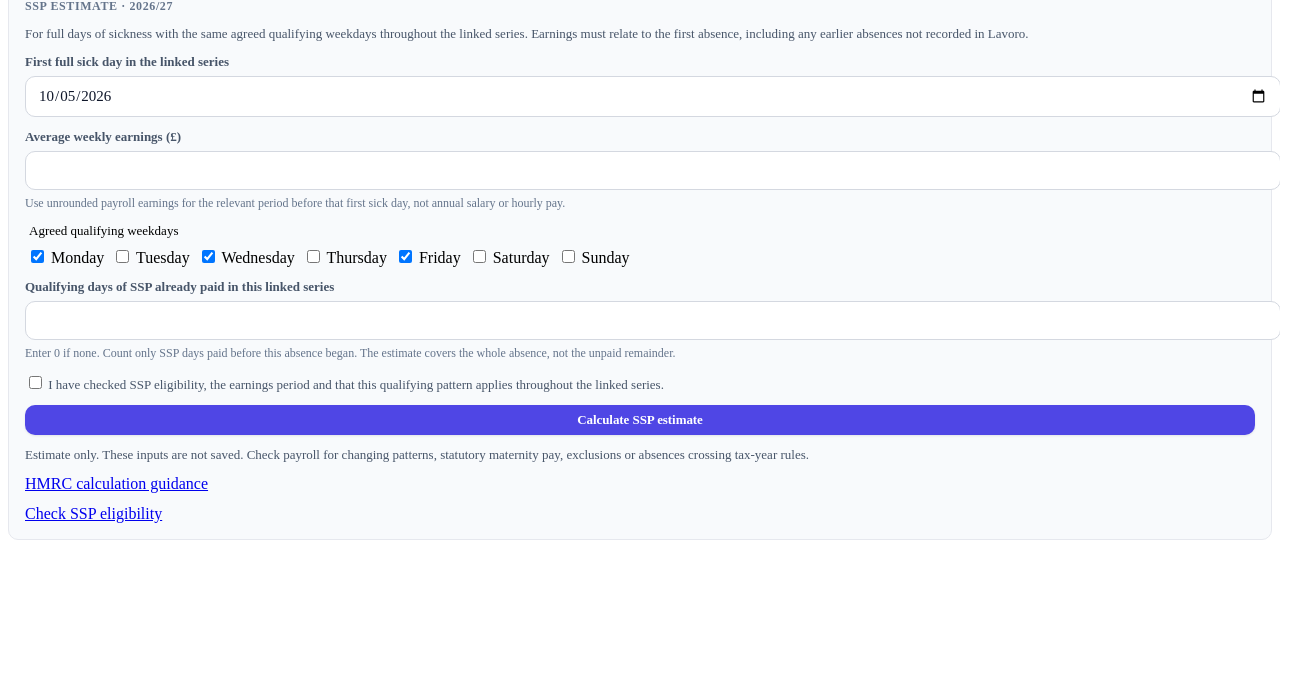
Test: calculates using employee weekdays and entered earnings
In the number field labelled "Average weekly earnings (£)": (652,170) [25,151,1280,190], type "100"
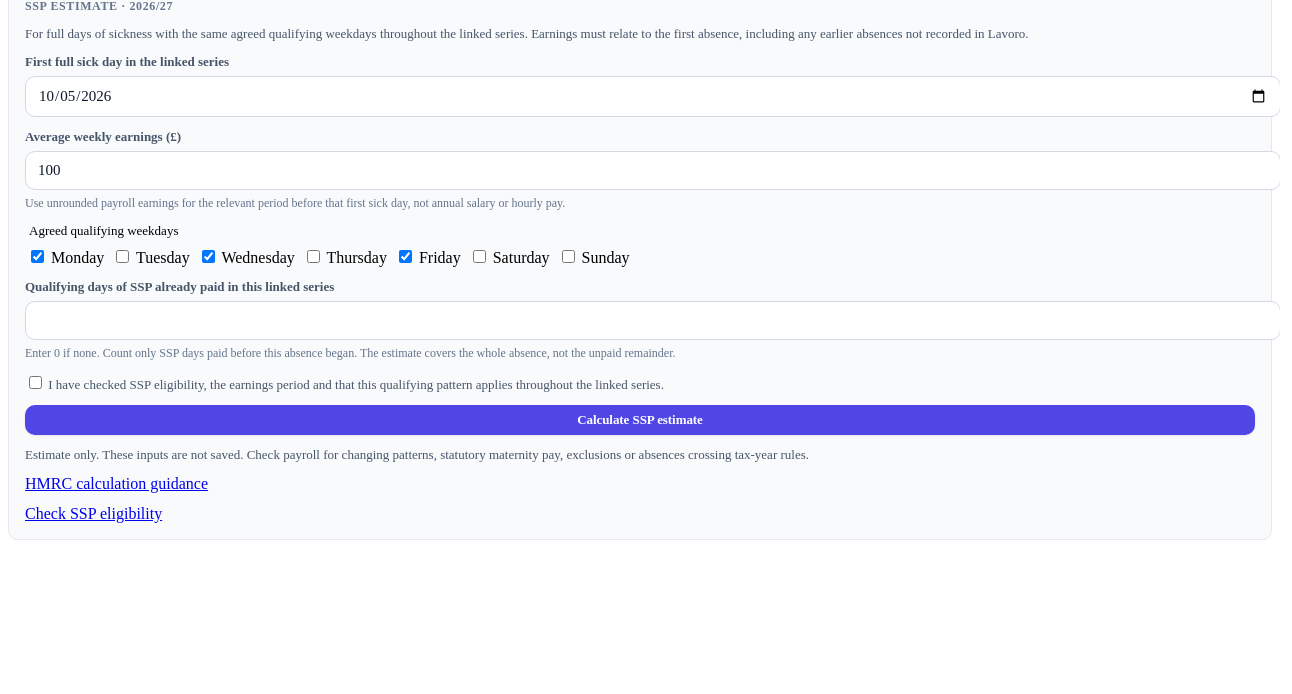
In the number field labelled "Qualifying days of SSP already paid in this linked series": (652,320) [25,301,1280,340], type "0"
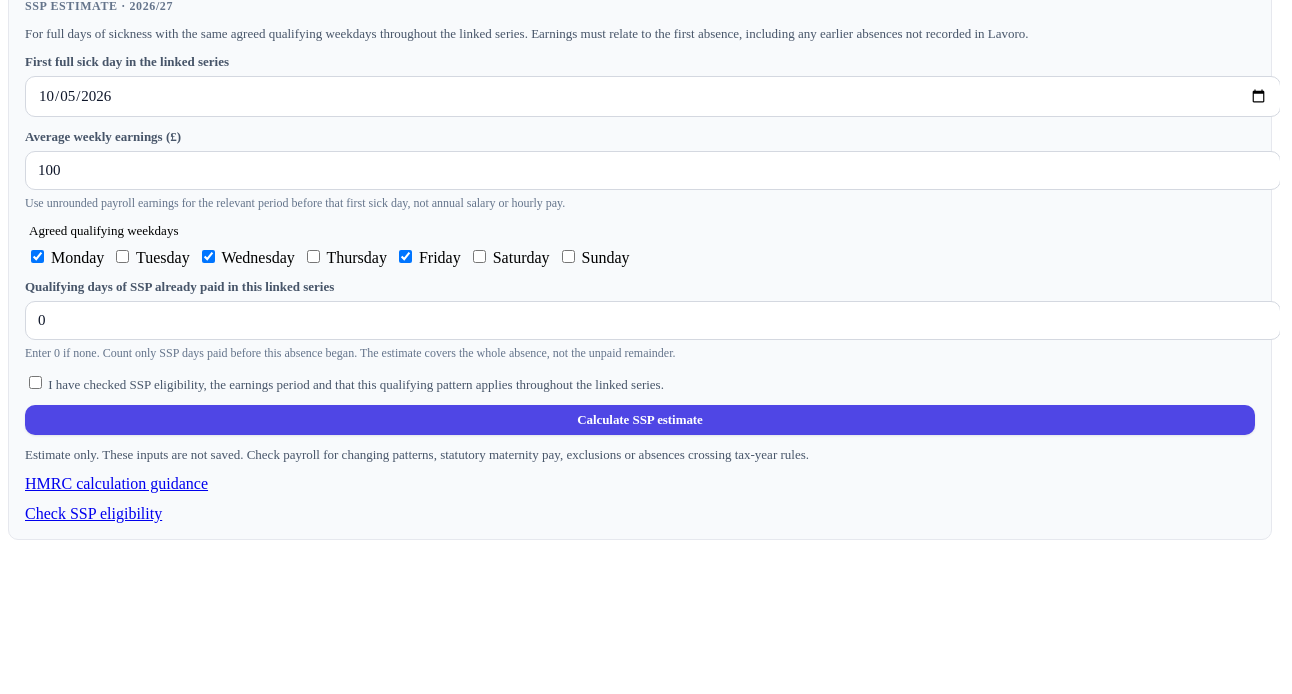
Click the checkbox labelled "I have checked SSP eligibility": (36,382) [29,376,42,389]
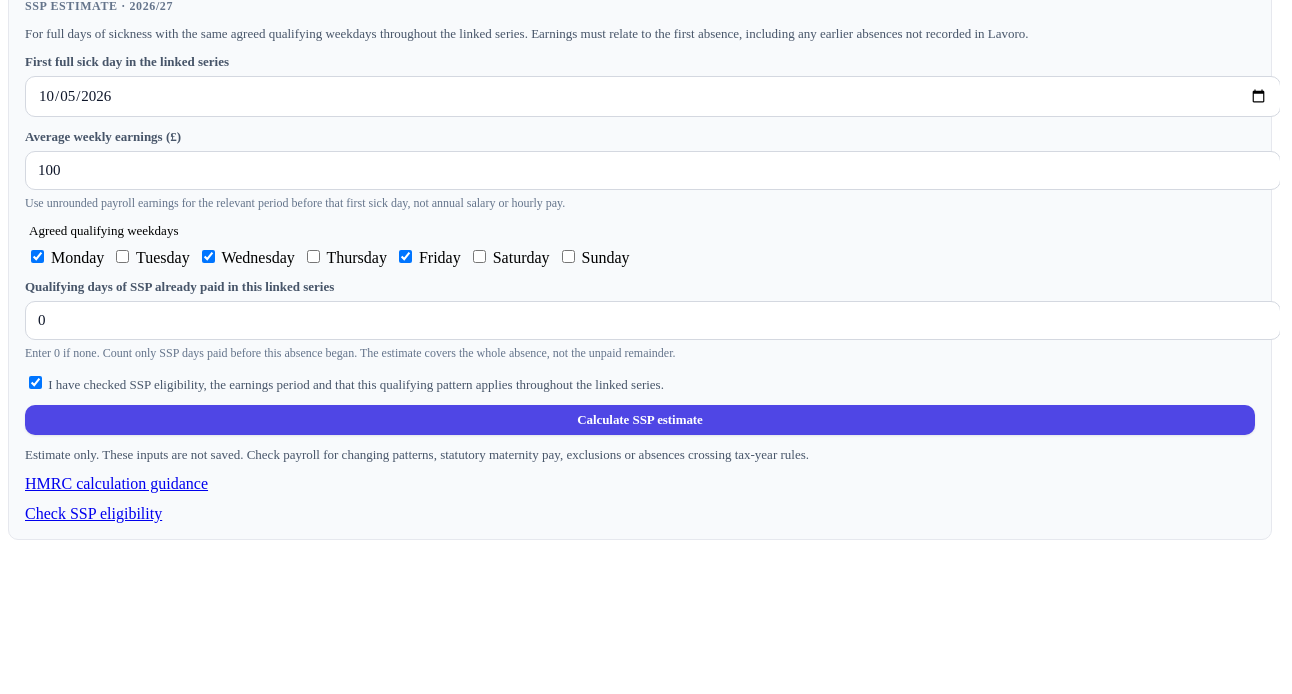
Click the button "Calculate SSP estimate": (640,420) [25,405,1255,435]
(page scrolled)
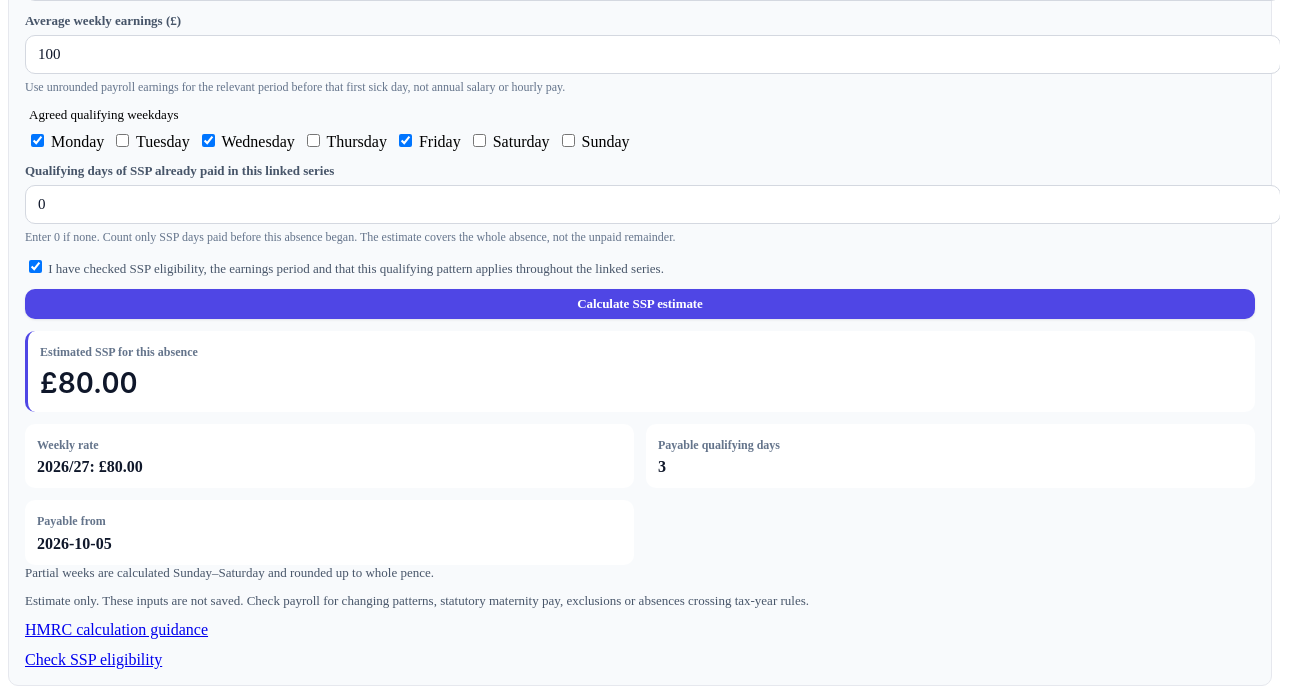
Expected: the message shows "£80.00", [37,458,143,475]
Expected: the message shows "3", [658,458,666,475]
